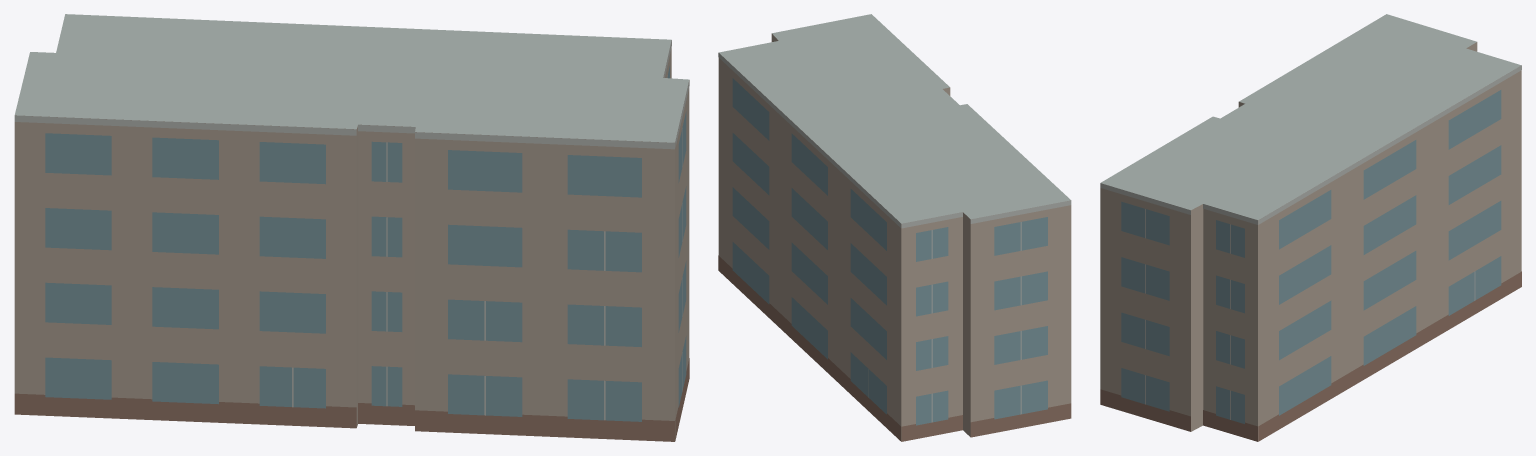
The model's file is survey-upis-32557279.glb.
The picture shows the model from 3 angles, left to right: view 1: azimuth 30°, elevation 25°; view 2: azimuth 150°, elevation 25°; view 3: azimuth 270°, elevation 25°; orthographic projection. The views are drawn at different scales.
Parts seen in each view (by area): view 1: survey-upis-32557279.tmp; view 2: survey-upis-32557279.tmp; view 3: survey-upis-32557279.tmp.
Boxes of the visible parts, x1,y1,x2,y2 form: survey-upis-32557279.tmp: [14, 14, 689, 441]; survey-upis-32557279.tmp: [718, 14, 1071, 441]; survey-upis-32557279.tmp: [1100, 14, 1521, 441].
Bounding box in the file's own units: 22.26 × 11.15 × 19.23.
